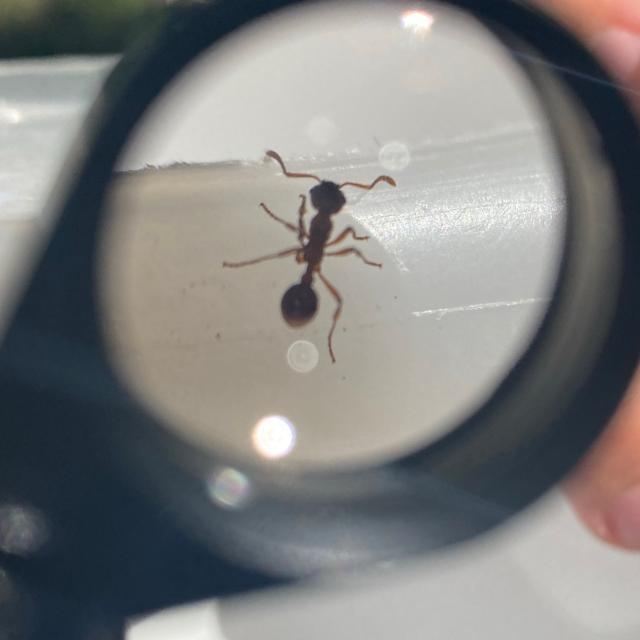Myrmica: (236, 142, 372, 332)
